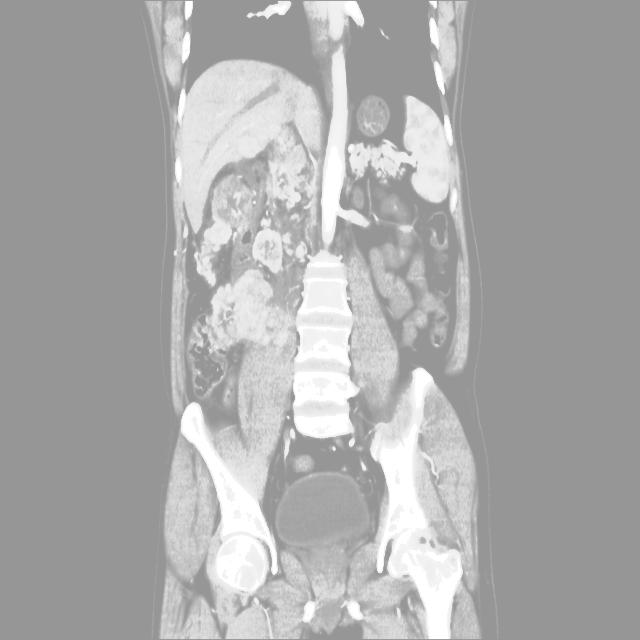TUMOR: (135, 206, 510, 517)
